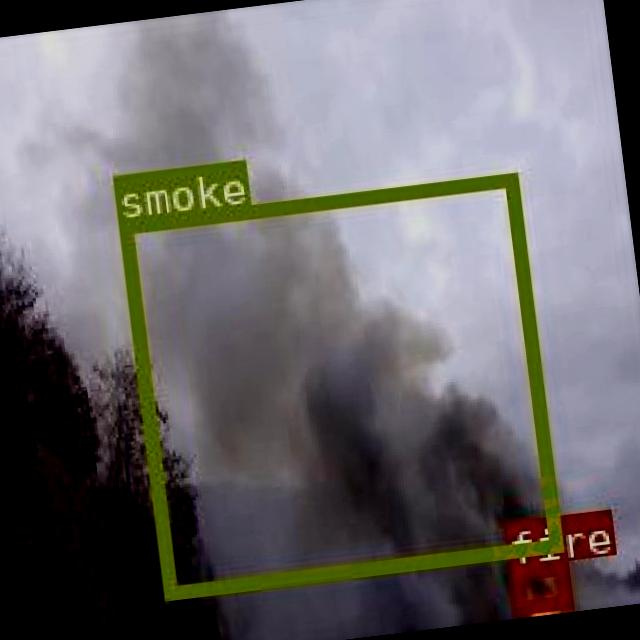fire: (506, 558, 569, 613)
smoke: (116, 172, 558, 598)
